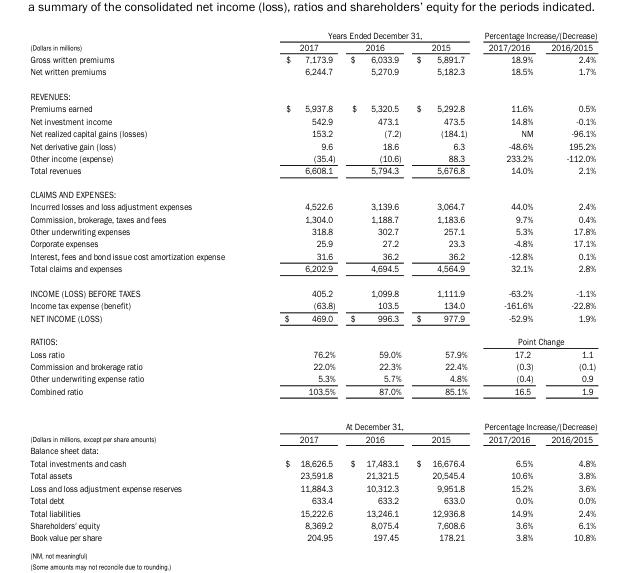table: (29, 29, 596, 542)
table column: (29, 29, 253, 542), (253, 29, 342, 542), (408, 29, 475, 542), (342, 29, 408, 542), (475, 29, 541, 542), (541, 29, 596, 542)
table column header: (29, 29, 596, 52)
table projected row header: (29, 83, 596, 101), (29, 181, 596, 199), (29, 444, 596, 456)
table row: (29, 384, 596, 408), (29, 408, 596, 432), (29, 64, 596, 83), (29, 261, 596, 280), (29, 83, 596, 101), (29, 163, 596, 181), (29, 181, 596, 199), (29, 280, 596, 298), (29, 311, 596, 329), (29, 329, 596, 347), (29, 101, 596, 114), (29, 126, 596, 139), (29, 199, 596, 212), (29, 236, 596, 249), (29, 298, 596, 311), (29, 371, 596, 384), (29, 468, 596, 481), (29, 493, 596, 506), (29, 40, 596, 52), (29, 52, 596, 64), (29, 114, 596, 126), (29, 139, 596, 151), (29, 151, 596, 163), (29, 212, 596, 224), (29, 224, 596, 236), (29, 249, 596, 261), (29, 347, 596, 359), (29, 359, 596, 371), (29, 432, 596, 444), (29, 444, 596, 456), (29, 456, 596, 468), (29, 481, 596, 493), (29, 506, 596, 518), (29, 518, 596, 530), (29, 530, 596, 542), (29, 29, 596, 40)
table spanning cell: (253, 408, 475, 432), (29, 29, 253, 52), (475, 408, 596, 432), (253, 29, 475, 40), (475, 329, 596, 347), (475, 29, 596, 40)
